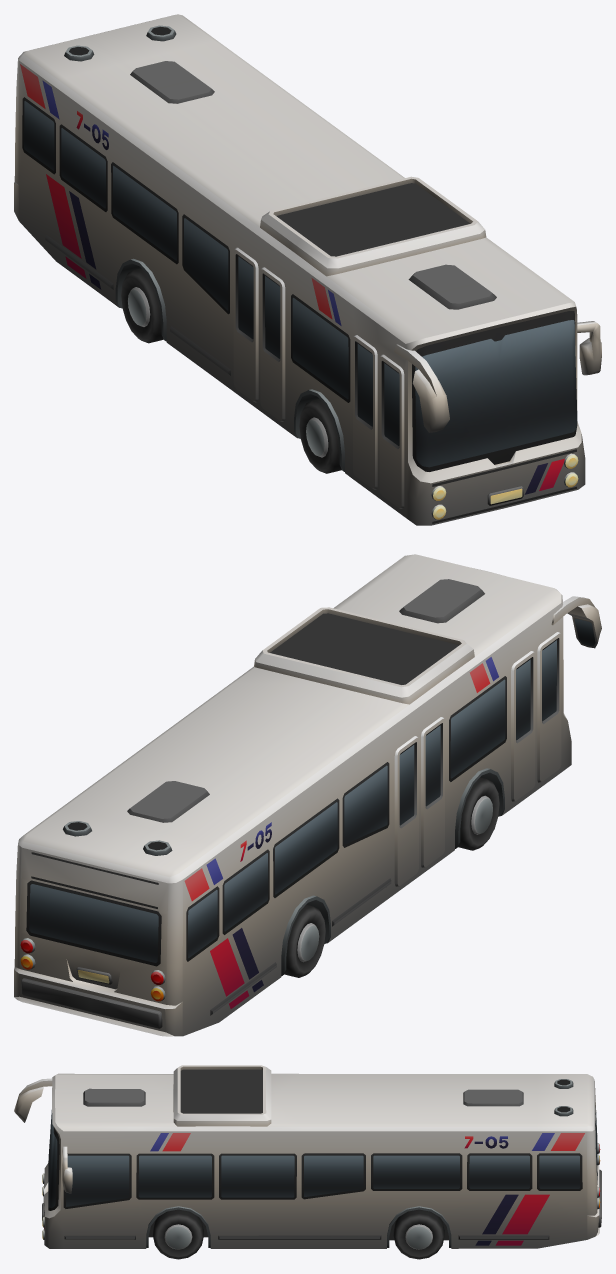
The model's file is Car_17B.fbx.
3 views of the same model, one above another, from view 1: azimuth 30°, elevation 25°; view 2: azimuth 150°, elevation 25°; view 3: azimuth 270°, elevation 25° (orthographic). The views are drawn at different scales.
Parts seen in each view (by area): view 1: Car_17B, Wheel_17B_R.R, Wheel_17B_F.R; view 2: Car_17B, Wheel_17B_F.R, Wheel_17B_R.R; view 3: Car_17B, Wheel_17B_R.L, Wheel_17B_F.L, Livery_17B.
Part boxes in pixels (x1,y1,x2,y2): Car_17B: (14, 14, 601, 525); Wheel_17B_R.R: (121, 268, 163, 343); Wheel_17B_F.R: (299, 398, 341, 473); Car_17B: (14, 554, 601, 1036); Wheel_17B_F.R: (458, 777, 499, 850); Wheel_17B_R.R: (284, 904, 325, 977); Car_17B: (14, 1065, 601, 1248); Wheel_17B_R.L: (393, 1209, 444, 1259); Wheel_17B_F.L: (153, 1209, 203, 1259); Livery_17B: (464, 1136, 508, 1148).
Size of the model in its own units: 3.39 by 3.24 by 12.23.
